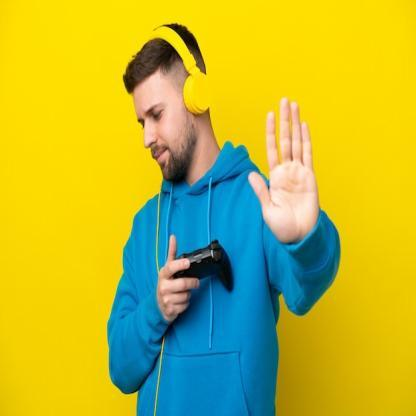stop: (246, 94, 320, 245)
